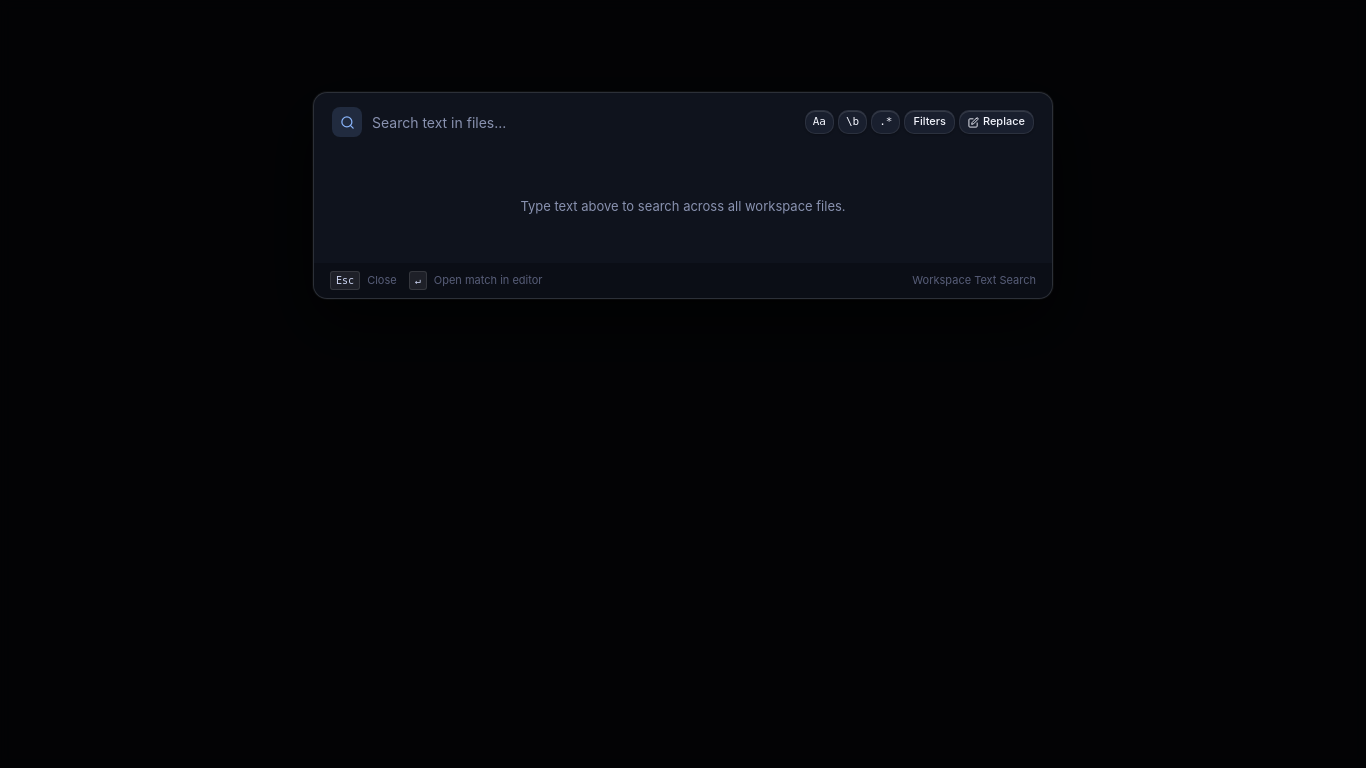
WorkspaceSearchModal — M50 selection, snapshot & diff › shows a per-file checkbox and a -/+ diff for each match in replace mode
The image size is (1366, 768).
In the field with placeholder "Search text in files...": (583, 122) [372,112,795,133], type "hello"
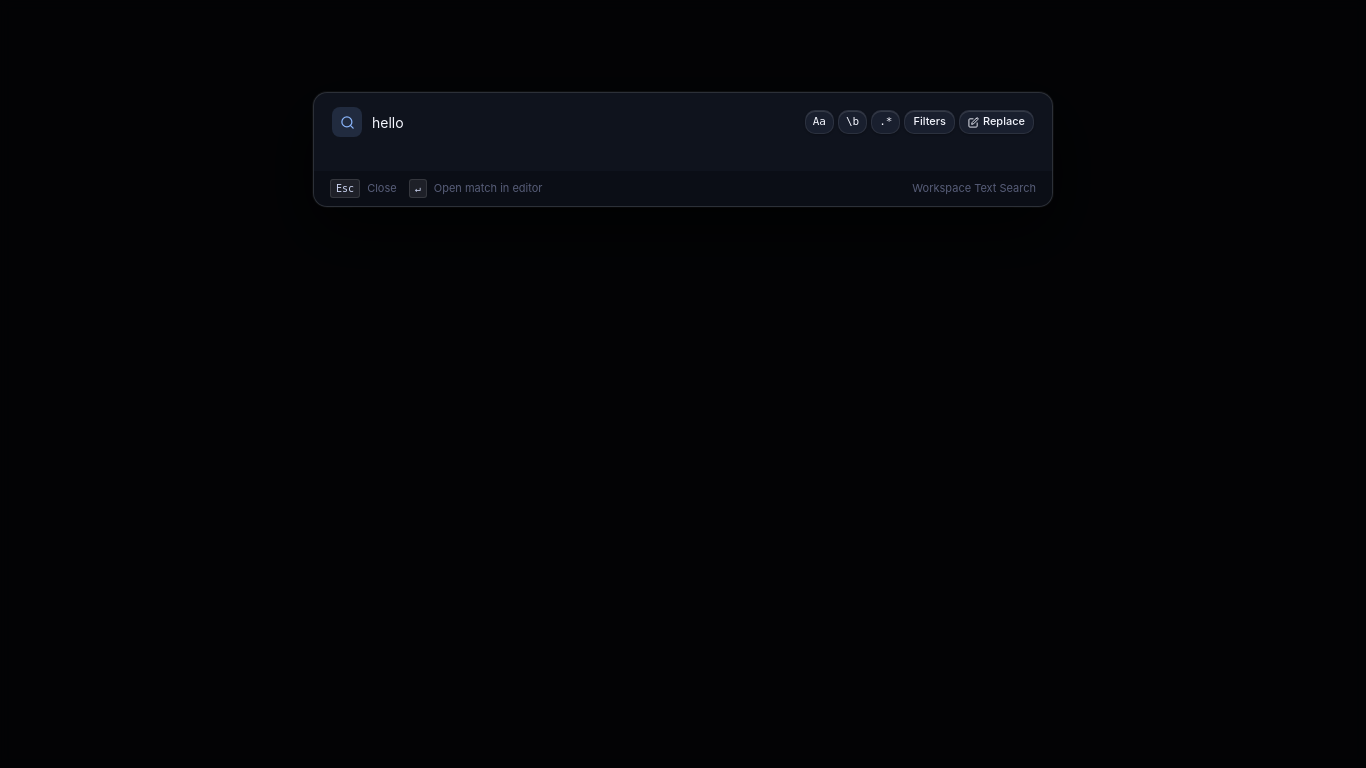
Click the button titled "Toggle Replace": click(996, 122) [959,110,1034,134]
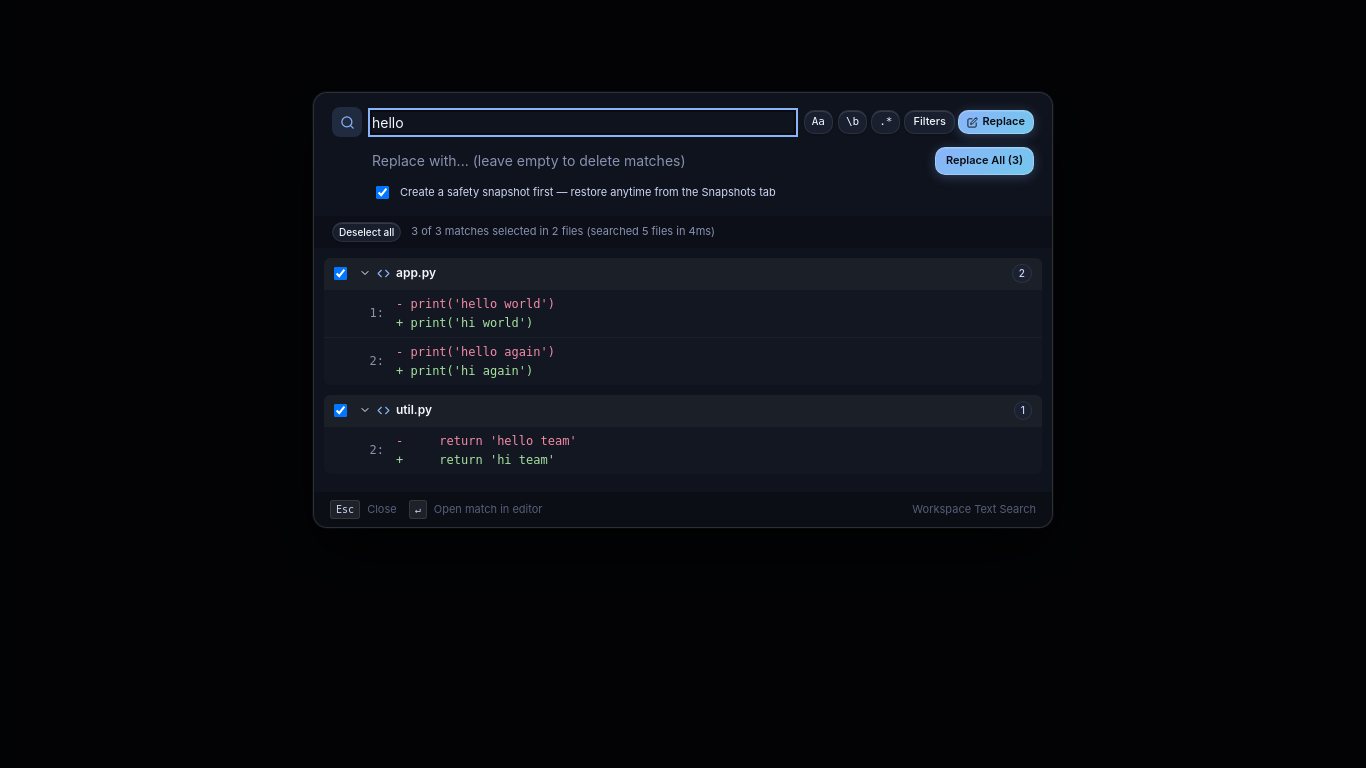
Result: the text "3 of 3 matches selected in 2 files (searched 5 files in 4ms)" is shown at [411,223,715,240]
Result: the checkbox named "Include app.py in Replace All" is shown at [334,266,347,280]
Result: the checkbox named "Include util.py in Replace All" is shown at [334,404,347,416]
